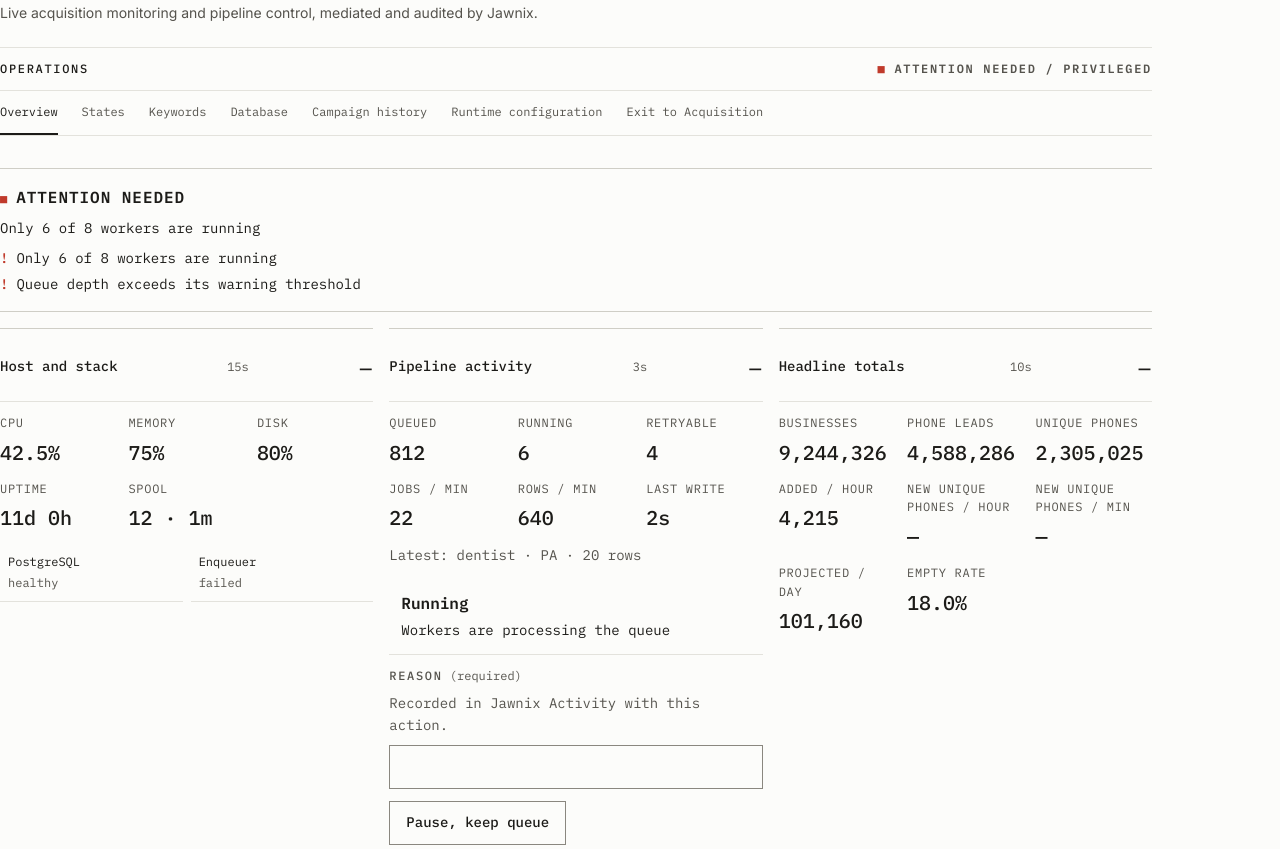
Test: pipeline controls › warns that clearing the queue cannot be undone, and reports what it cancelled
Type "Bad keyword set" into the field labelled "Reason (required)" at (576, 767), box [389, 745, 763, 789]
(page scrolled)
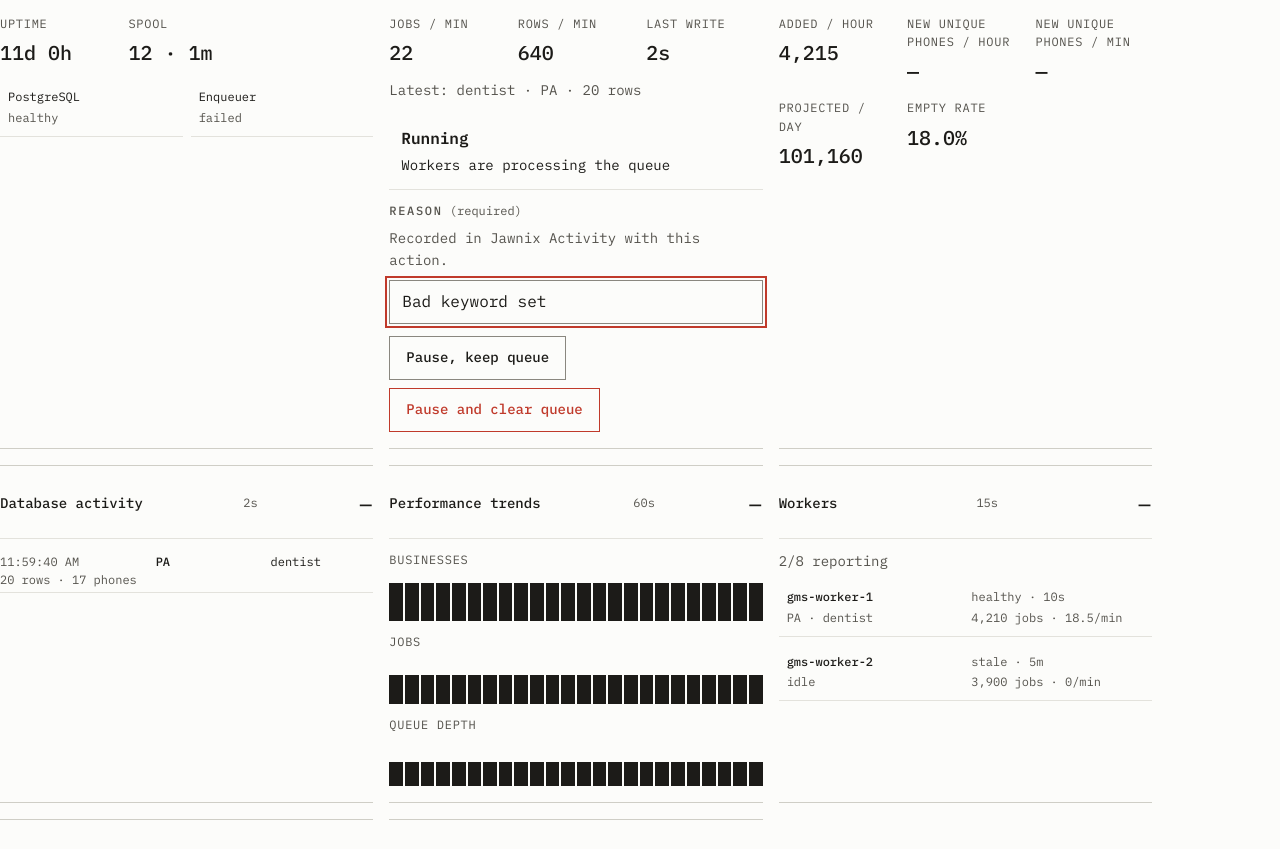
Click the button "Pause and clear queue" at (494, 410), box [389, 388, 600, 432]
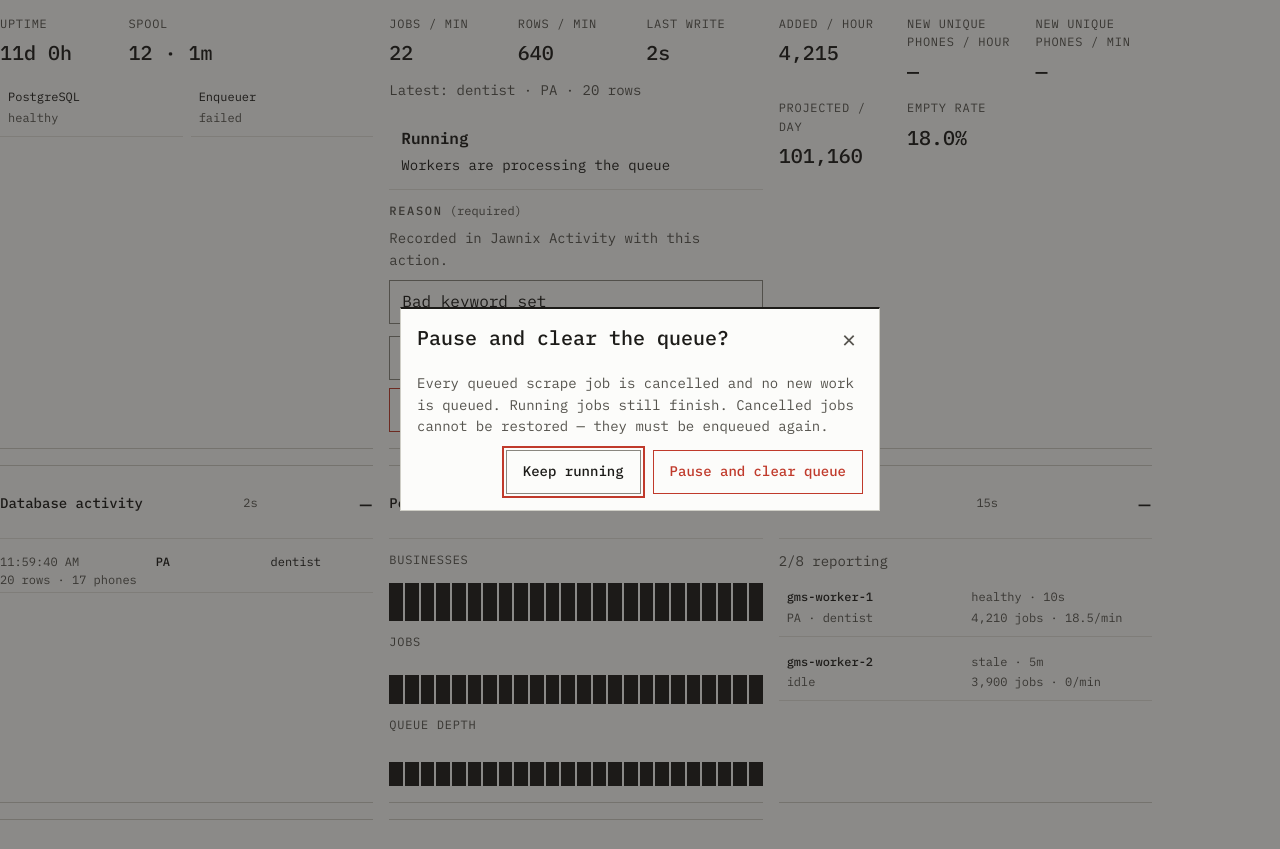
Check: the dialog shows "cannot be restored", box [417, 374, 854, 435]
Click the button "Pause and clear queue" at (758, 472), box [653, 450, 863, 494]
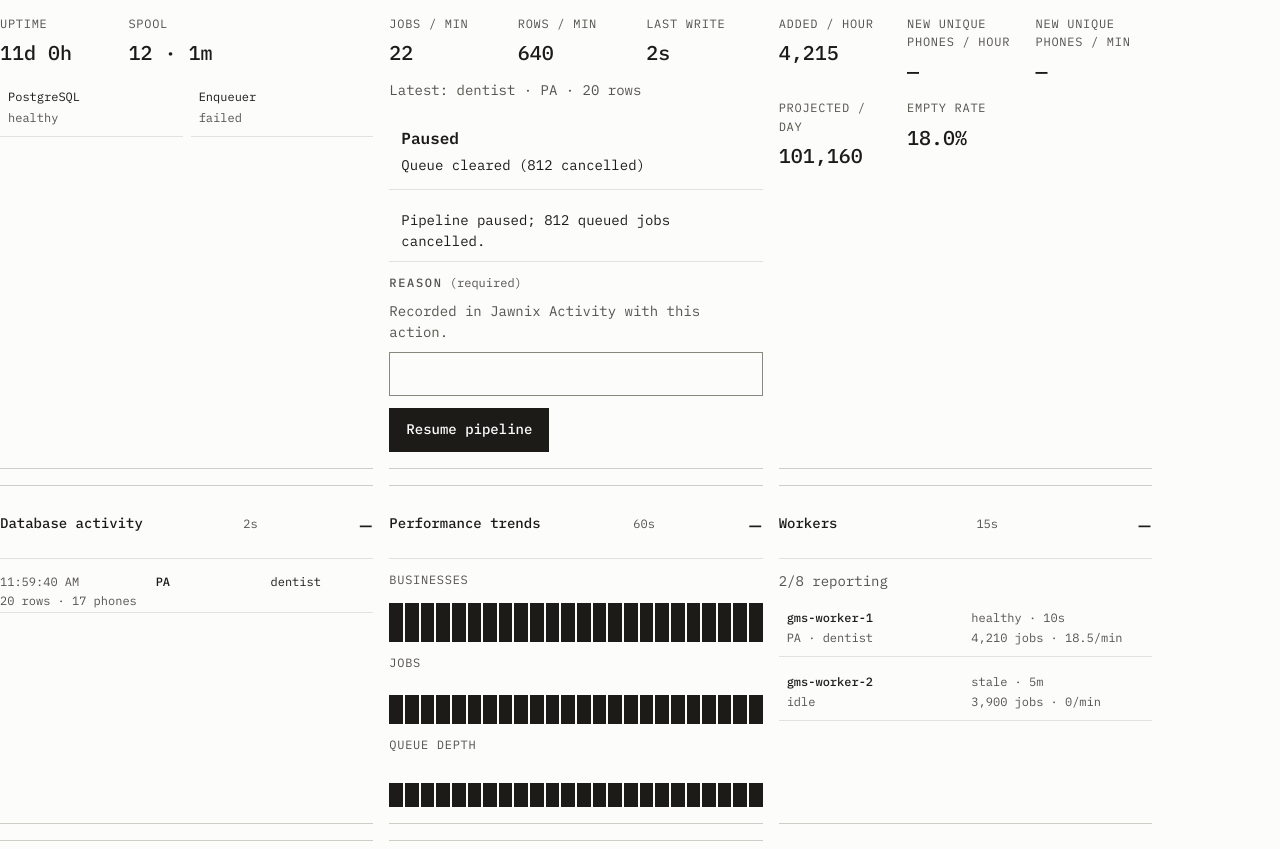
Check: the text "Pipeline paused; 812 queued jobs cancelled." is shown, box [389, 202, 763, 262]
